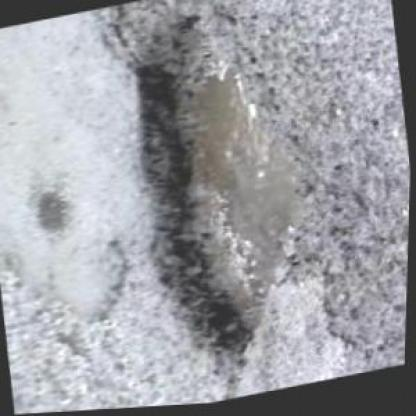pothole: (105, 0, 340, 391), (20, 180, 78, 242)
